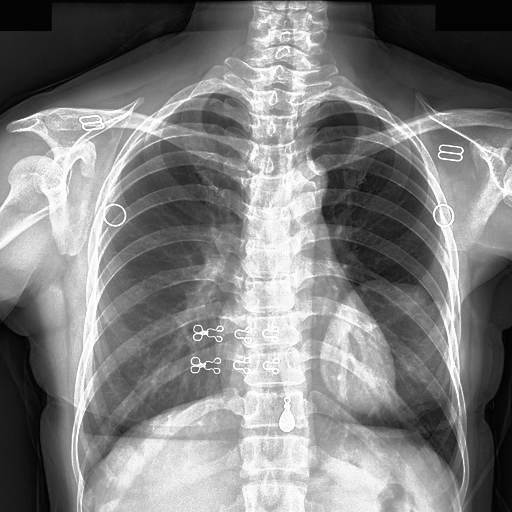Other lesion: (322, 279, 453, 415)
Pleural thickening: (321, 274, 458, 418)
